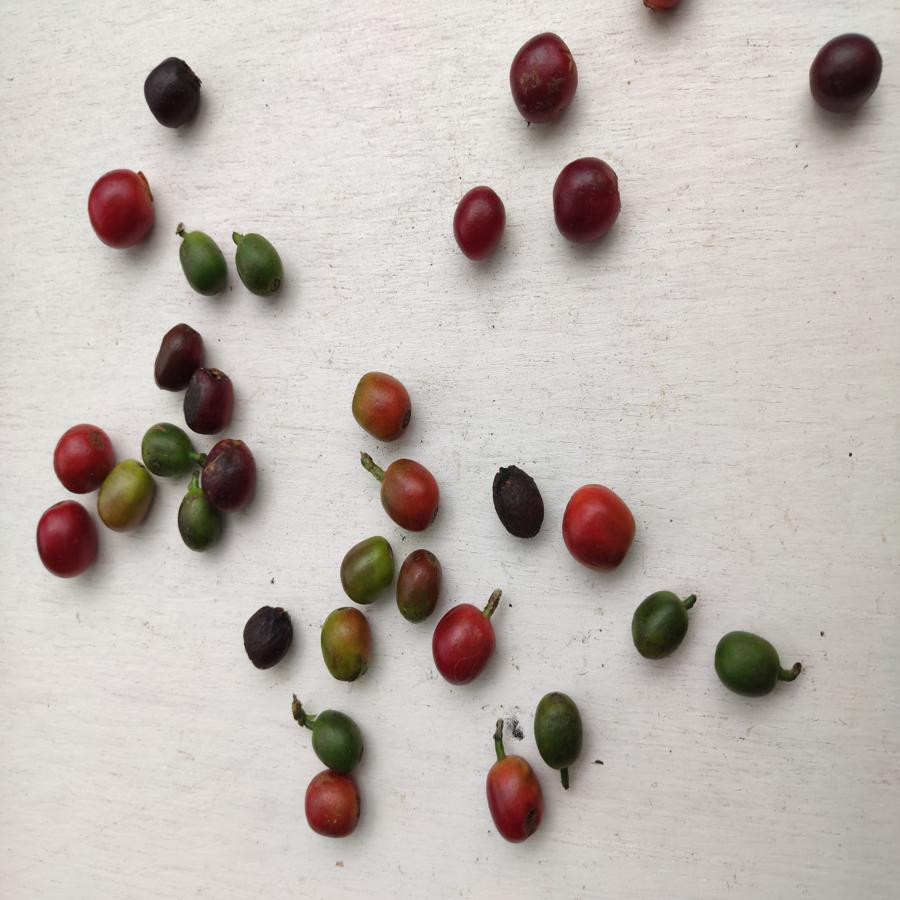Inmaduro: (715, 633, 780, 701), (535, 691, 589, 772), (307, 708, 366, 772), (629, 592, 684, 659), (178, 226, 225, 300), (235, 232, 287, 297), (138, 422, 196, 471), (174, 487, 215, 551)
Maduro: (81, 168, 160, 249), (563, 485, 635, 568), (430, 602, 497, 686), (486, 752, 545, 845), (37, 496, 97, 581), (45, 423, 112, 495), (302, 772, 364, 839)
Pinton: (377, 454, 446, 534), (313, 601, 377, 682), (351, 370, 416, 444), (99, 462, 162, 529), (336, 540, 395, 603), (395, 548, 439, 628)
Sobremaduro: (549, 156, 625, 246), (809, 33, 884, 115), (512, 30, 579, 120), (489, 463, 547, 542), (141, 56, 203, 128), (447, 185, 506, 259), (202, 440, 258, 513), (180, 367, 235, 437), (243, 603, 293, 669), (153, 323, 200, 386)
